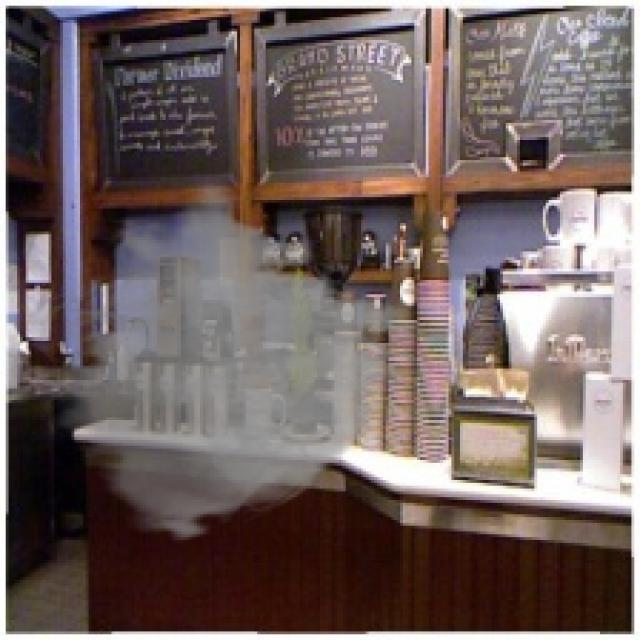Smoke: (20, 180, 429, 543)
